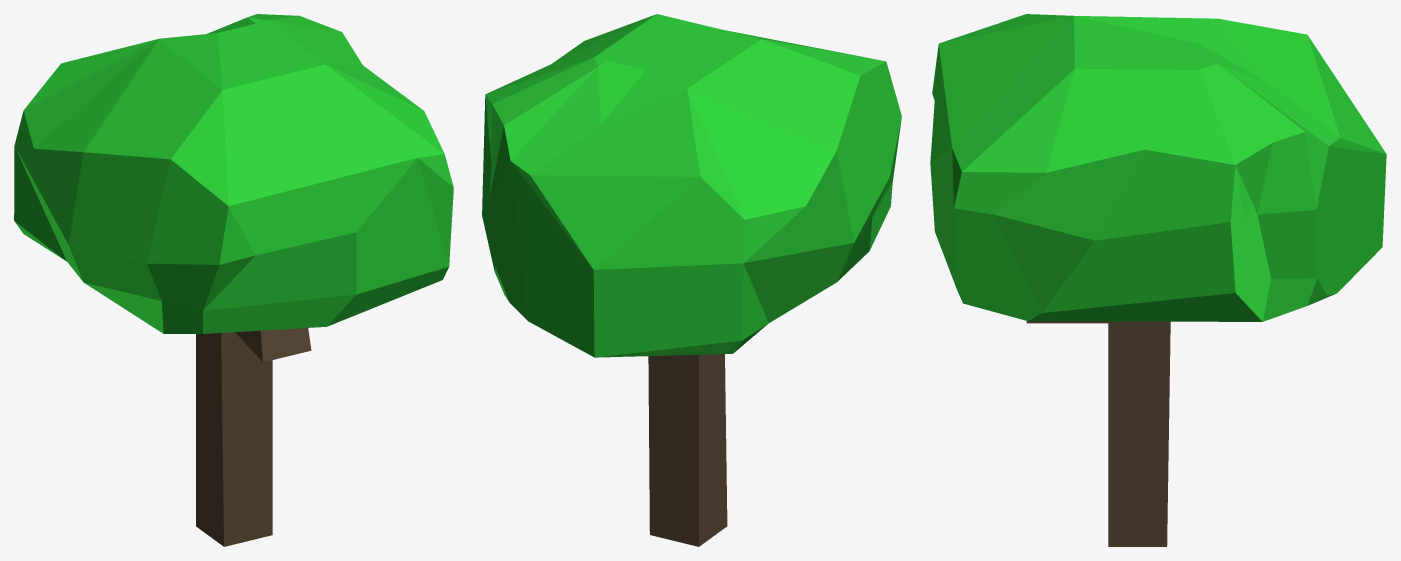
File: tree1.fbx
3 views of the same model, side by side, from view 1: azimuth 30°, elevation 25°; view 2: azimuth 150°, elevation 25°; view 3: azimuth 270°, elevation 25° (orthographic). The views are drawn at different scales.
Parts seen in each view (by area): view 1: TreeCrown, TreeTrunk; view 2: TreeCrown, TreeTrunk; view 3: TreeCrown, TreeTrunk.
Part boxes in pixels (x1=…): TreeCrown: x1=14, y1=14, x2=453, y2=333; TreeTrunk: x1=196, y1=328, x2=311, y2=546; TreeCrown: x1=482, y1=14, x2=901, y2=357; TreeTrunk: x1=648, y1=354, x2=727, y2=546; TreeCrown: x1=930, y1=14, x2=1386, y2=321; TreeTrunk: x1=1026, y1=321, x2=1170, y2=546.
Bounding box in the file's own units: 326 × 458 × 381.
